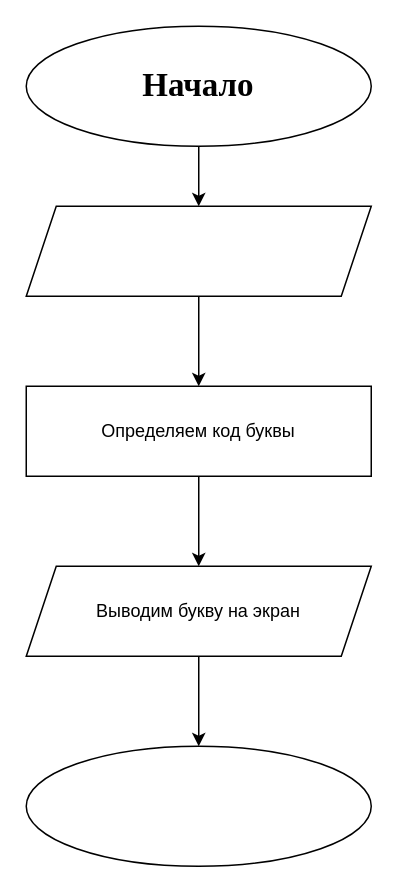
Image size: 398x893. Some labels were removed from this diagram. Here are the shapes that lost their labels. From the top down, the centre of each, then its label:
[198,250]: Пользовател вводит номер буквы в алфавите
[198,805]: Конец
